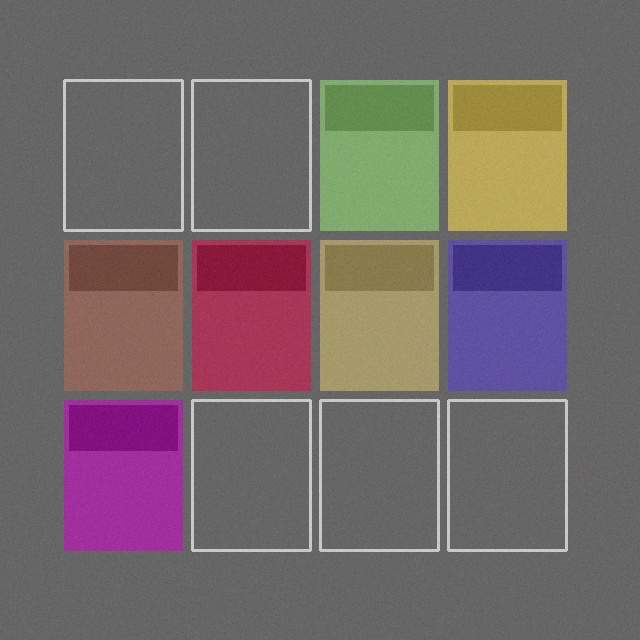space-empty: (64, 80, 182, 230), (192, 80, 310, 230), (192, 400, 310, 550), (320, 400, 438, 550), (448, 400, 566, 550)
space-occupied: (320, 80, 438, 230), (448, 80, 566, 230), (64, 240, 182, 390), (192, 240, 310, 390), (320, 240, 438, 390), (448, 240, 566, 390), (64, 400, 182, 550)
